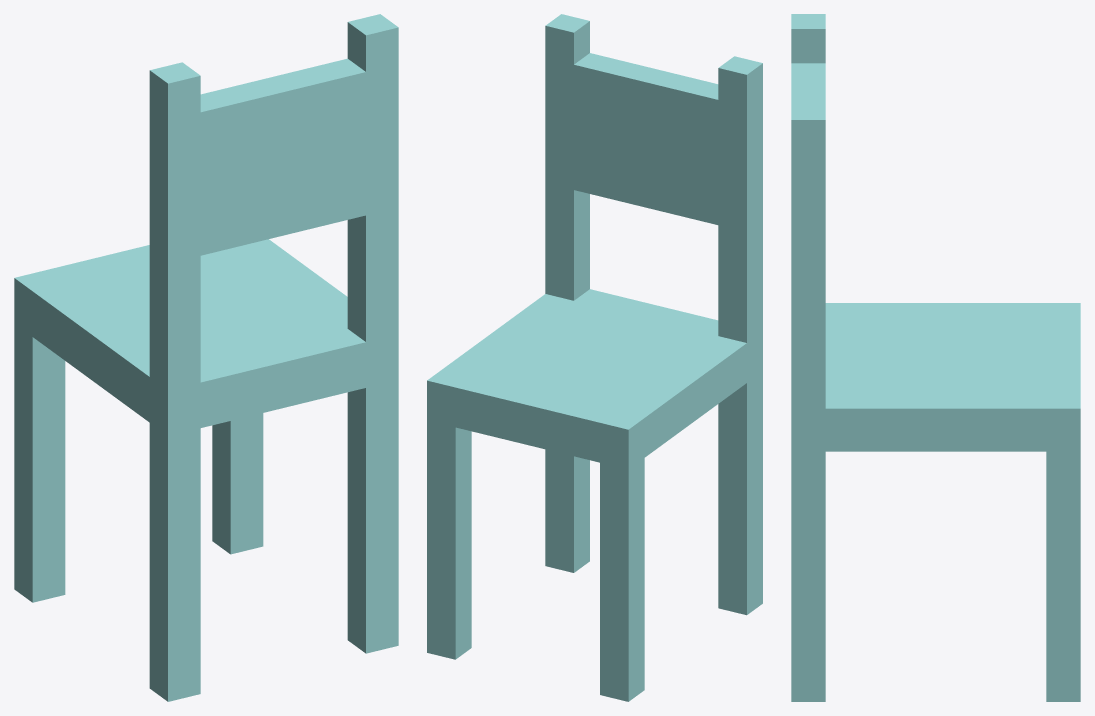
Rendered from chair.fbx.
The picture shows the model from 3 angles, left to right: view 1: azimuth 30°, elevation 25°; view 2: azimuth 150°, elevation 25°; view 3: azimuth 270°, elevation 25°; orthographic projection. The views are drawn at different scales.
Parts seen in each view (by area): view 1: chair; view 2: chair; view 3: chair.
Part boxes in pixels (x1,y1,x2,y2): chair: [14, 14, 398, 701]; chair: [427, 14, 762, 701]; chair: [791, 14, 1080, 701].
Bounding box in the file's own units: 1.76 × 4.5 × 2.03.
